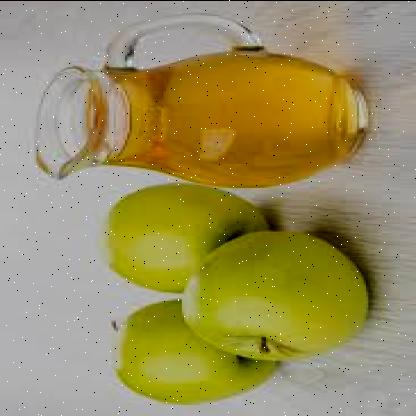apple: (181, 232, 362, 363), (109, 184, 268, 291), (116, 302, 275, 404)
